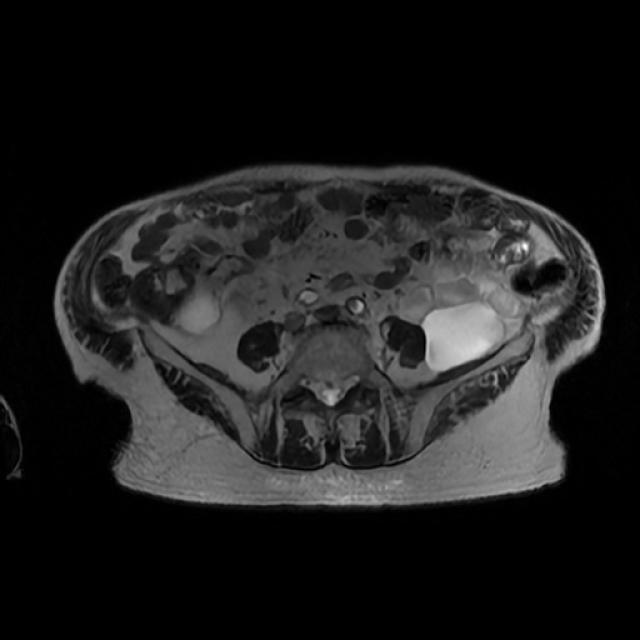sag: (174, 288, 220, 335)
sol: (401, 276, 525, 371)
